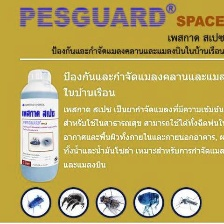insecticide: (16, 66, 60, 184)
